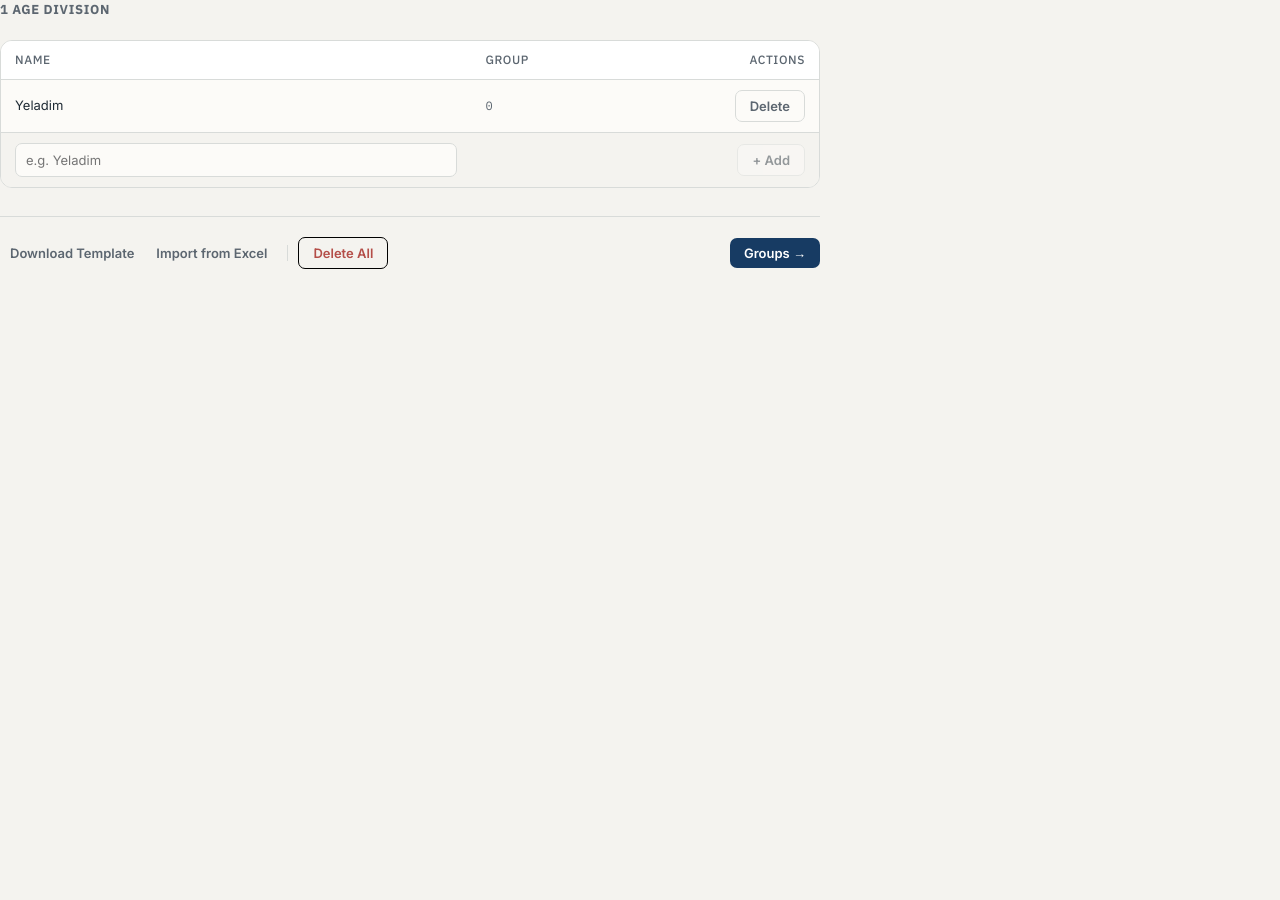
Test case: TiersScreen delete confirmation › cancels without deleting
The image size is (1280, 900).
Expected: the button "Yeladim" is shown, [15,97,63,113]
Click the button "Delete": (770,106) [735,90,805,122]
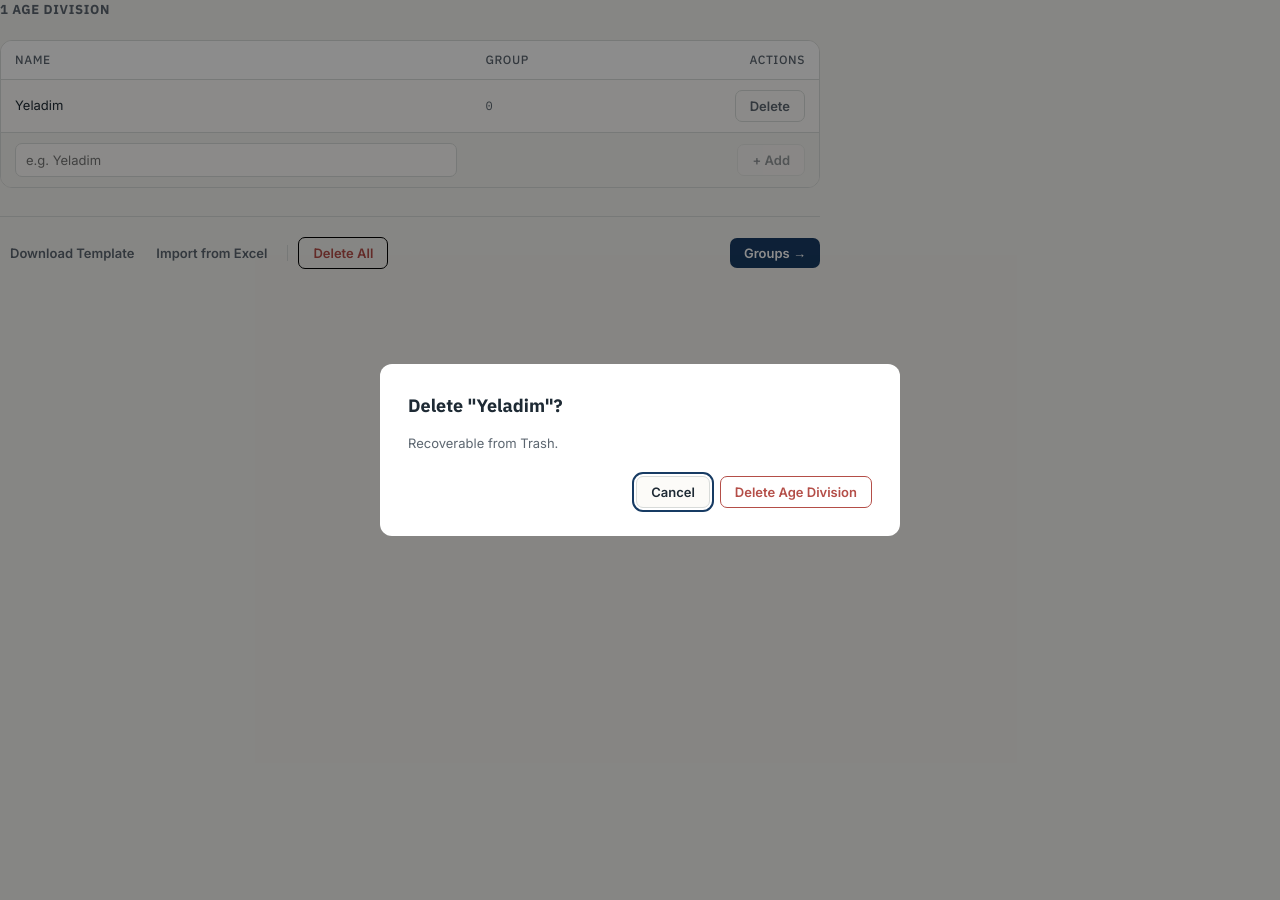
Expected: the text "Delete \"Yeladim\"?" is shown, [408,394,563,417]
Click the button "Cancel": (673,492) [636,476,710,508]
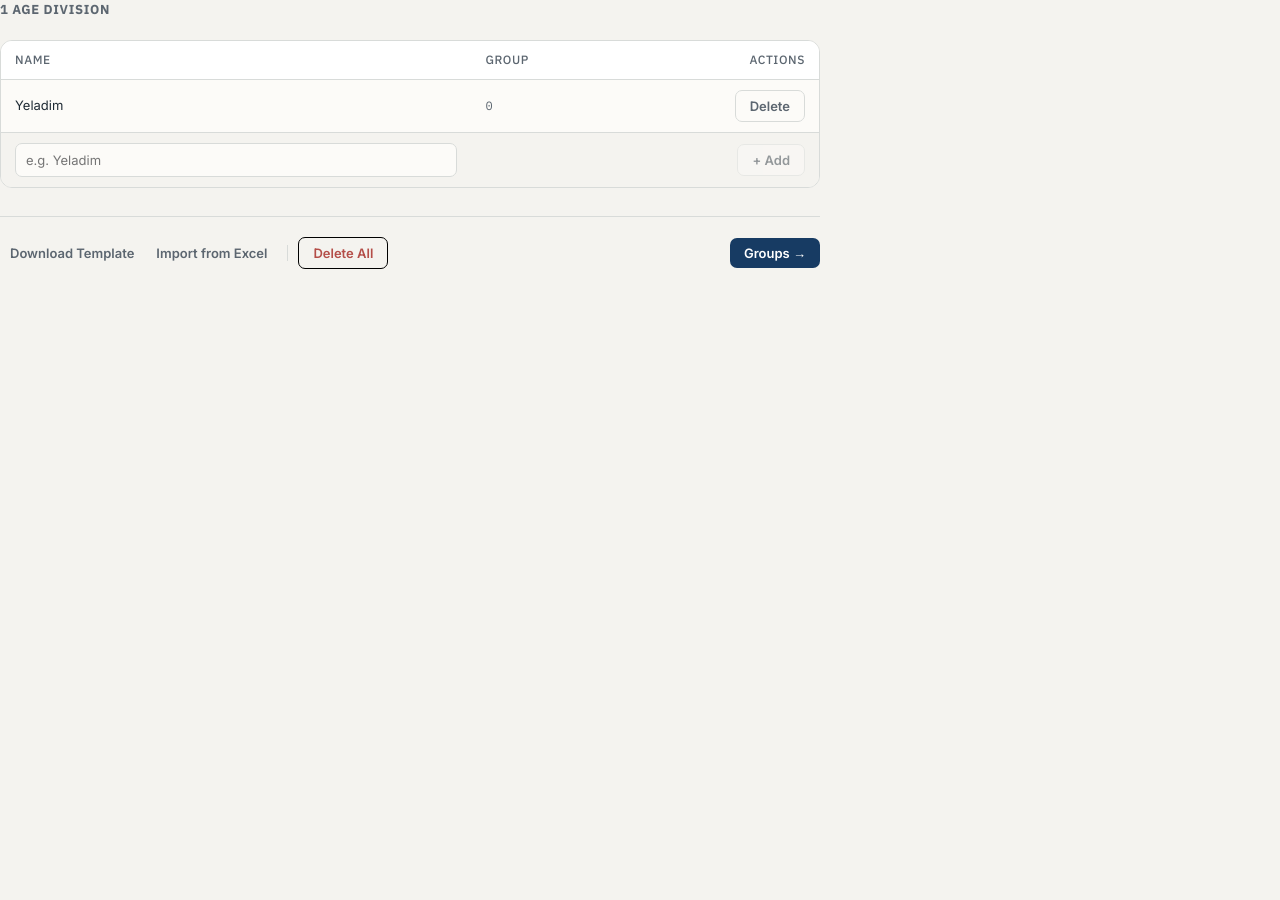
Expected: the text "Delete \"Yeladim\"?" is gone
